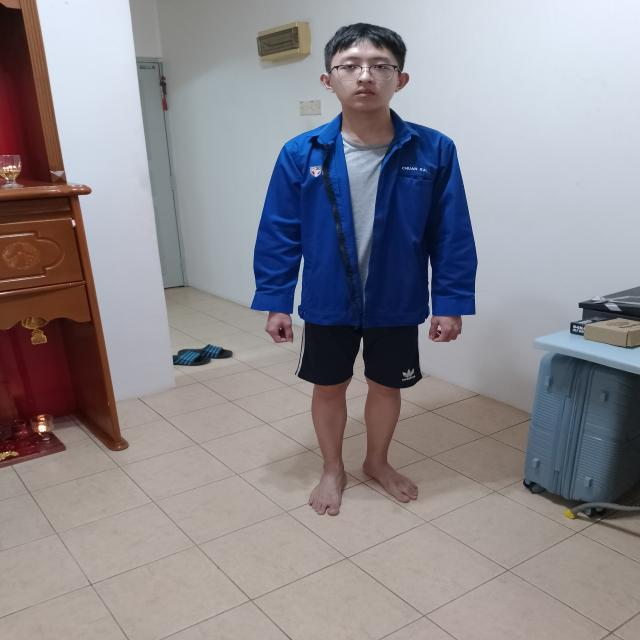person_with_labcoat: (251, 24, 477, 515)
